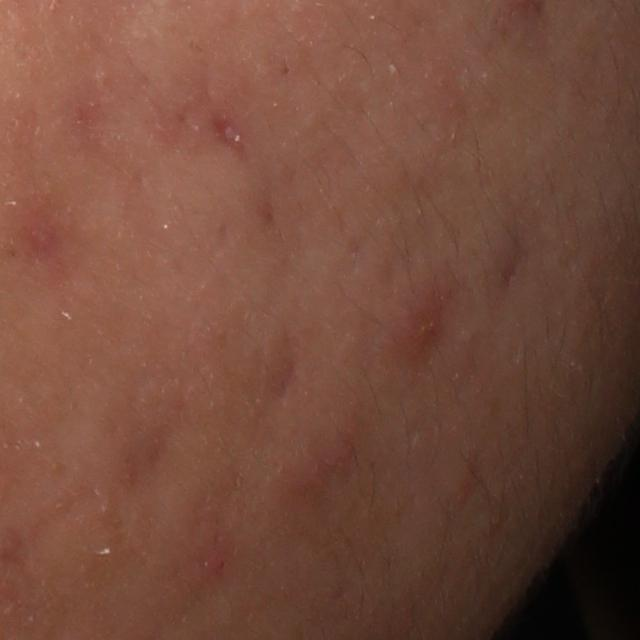atrophic_scar: (203, 100, 259, 169), (259, 334, 304, 414)
papule: (395, 296, 443, 358)
